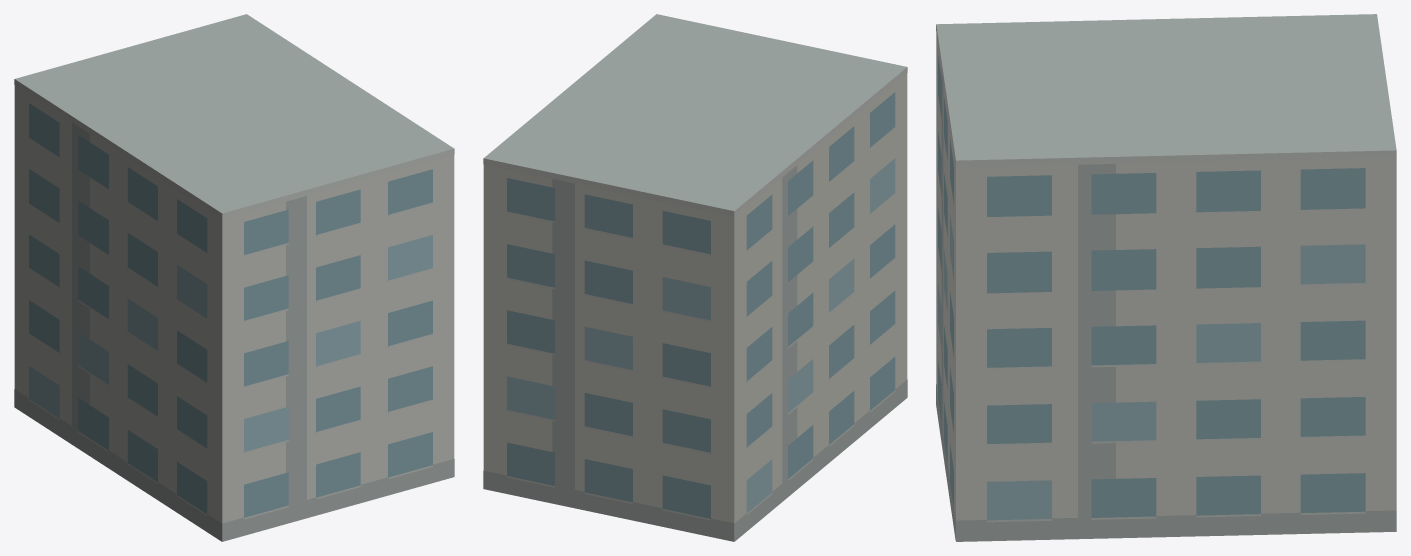
The model's file is survey-upis-32885904.glb.
3 views of the same model, side by side, from view 1: azimuth 30°, elevation 25°; view 2: azimuth 150°, elevation 25°; view 3: azimuth 270°, elevation 25° (orthographic). The views are drawn at different scales.
Visible parts, largest first — view 1: survey-upis-32885904.tmp; view 2: survey-upis-32885904.tmp; view 3: survey-upis-32885904.tmp.
Part boxes in pixels (x1,y1,x2,y2): survey-upis-32885904.tmp: (14, 14, 454, 541); survey-upis-32885904.tmp: (483, 14, 907, 541); survey-upis-32885904.tmp: (936, 14, 1396, 541).
Bounding box in the file's own units: 10.89 × 13.2 × 14.45.
